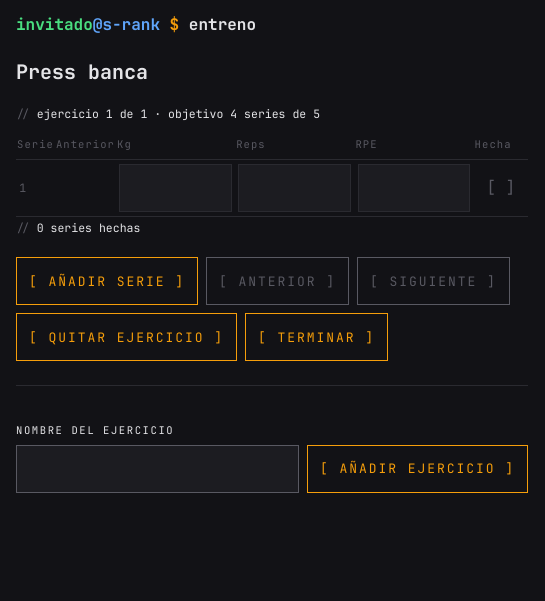
Test: marcar una serie arranca la cuenta atrás del descanso
Click the button named "Serie 1, pendiente".
click(501, 188)  # box [477,164,525,212]
Wait 10000 ms
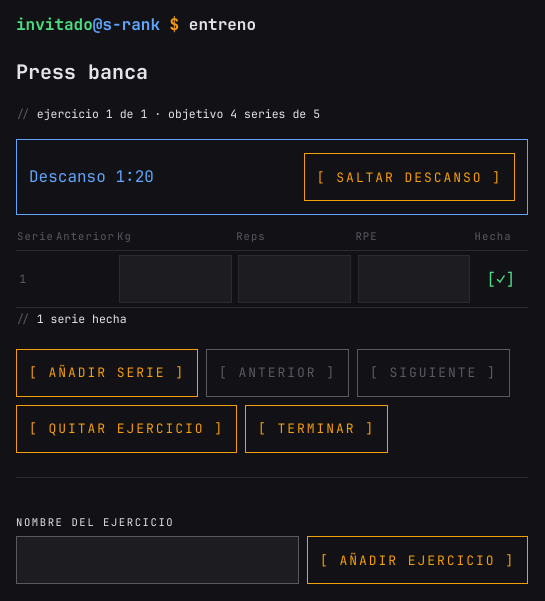
Expected: the text "Descanso 1:20" is shown, [29,164,154,190]
